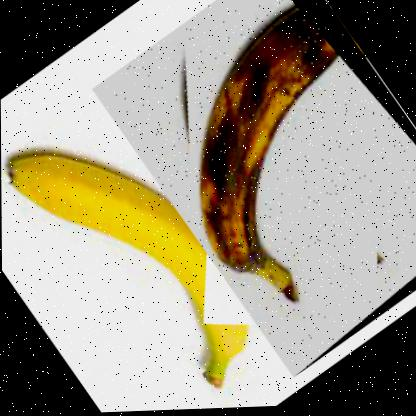banana_rotten: (89, 0, 415, 386)
